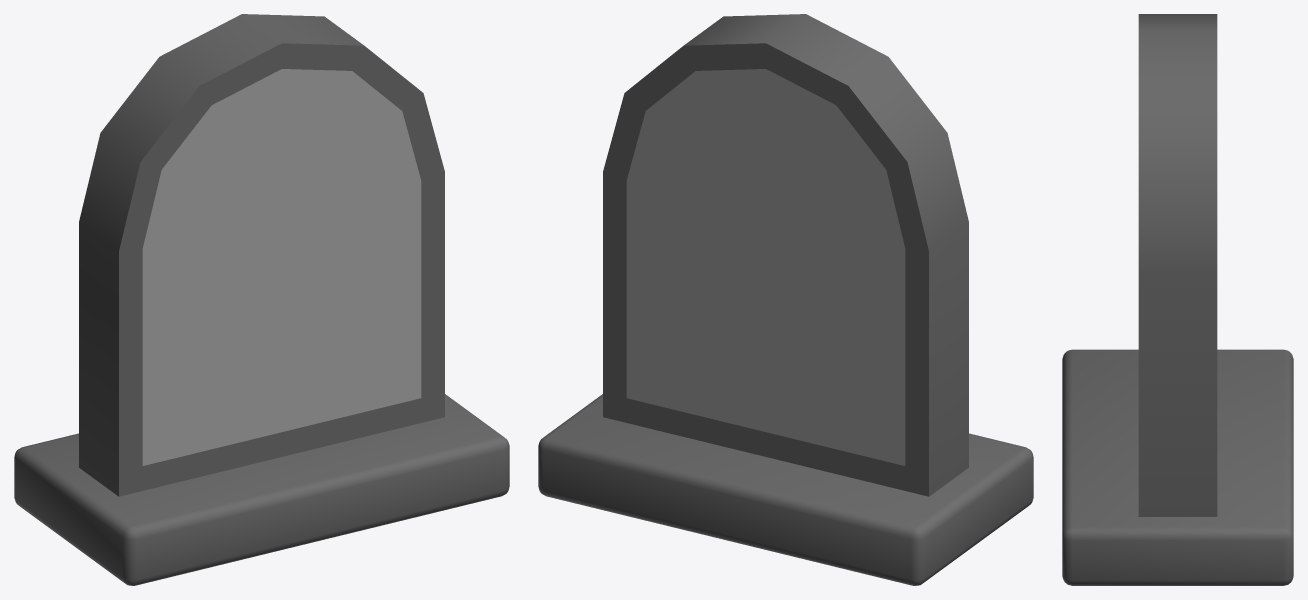
File: Grave_2.fbx
3 views of the same model, side by side, from view 1: azimuth 30°, elevation 25°; view 2: azimuth 150°, elevation 25°; view 3: azimuth 270°, elevation 25° (orthographic).
Parts seen in each view (by area): view 1: Grave_2; view 2: Grave_2; view 3: Grave_2.
Boxes of the visible parts, x1,y1,x2,y2 form: Grave_2: [14, 14, 509, 585]; Grave_2: [538, 14, 1033, 585]; Grave_2: [1062, 14, 1293, 585].
Bounding box in the file's own units: 0.4815 × 0.5642 × 0.2544.
